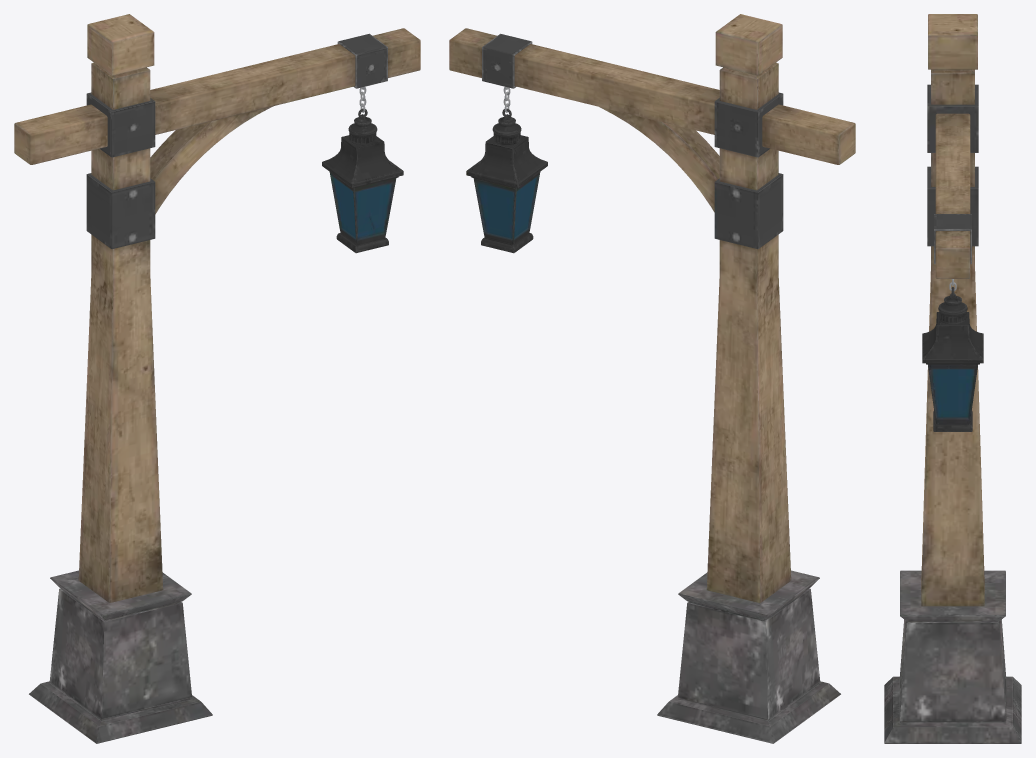
File: khronos_lantern.glb
The picture shows the model from 3 angles, left to right: view 1: azimuth 30°, elevation 25°; view 2: azimuth 150°, elevation 25°; view 3: azimuth 270°, elevation 25°; orthographic projection.
Parts seen in each view (by area): view 1: LanternPole_Body; view 2: LanternPole_Body; view 3: LanternPole_Body.
Part boxes in pixels (<box>): LanternPole_Body: <box>14,14,420,743</box>; LanternPole_Body: <box>449,14,855,743</box>; LanternPole_Body: <box>884,14,1021,743</box>.
Bounding box in the file's own units: 15.49 × 25.66 × 4.63.
1 material, 1 textured.
